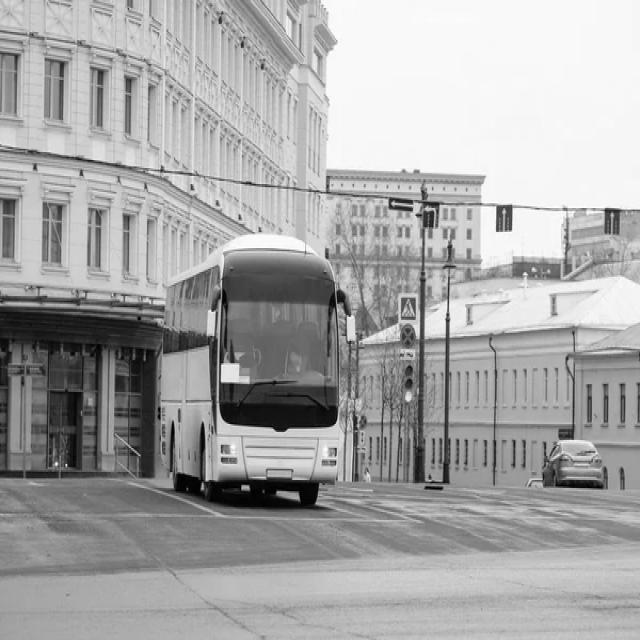Bus: (161, 234, 351, 507)
Car: (544, 442, 604, 488)
